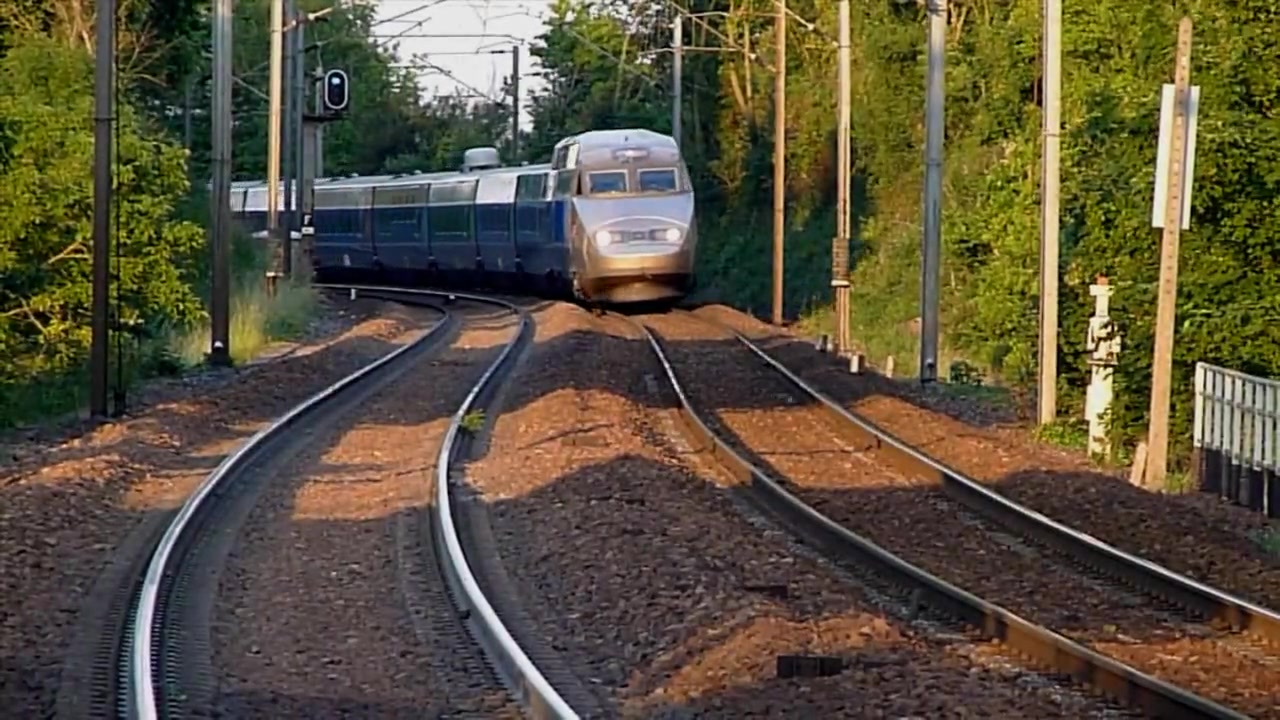train: (226, 129, 698, 313)
